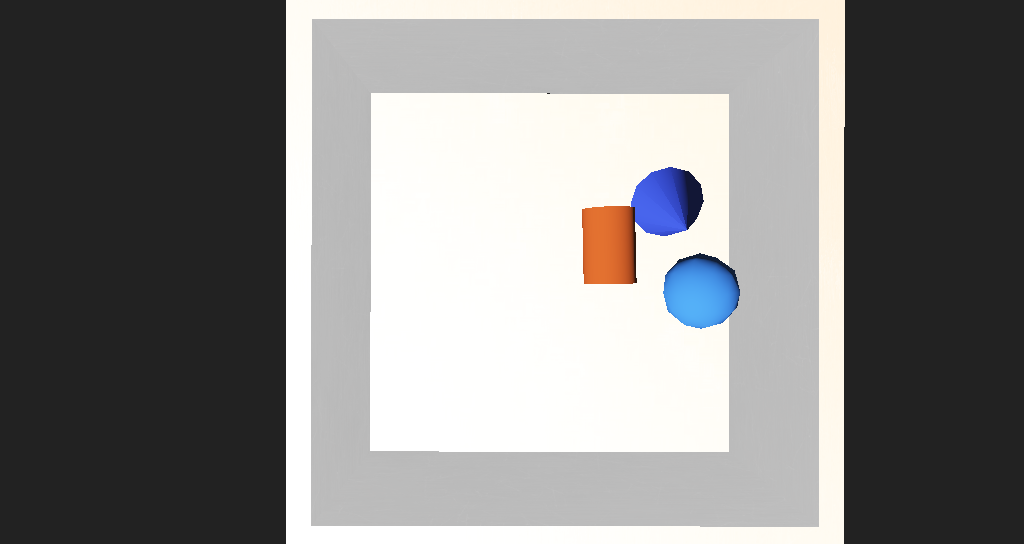cone: (536, 229, 583, 277)
cylinder: (576, 203, 650, 265)
sphere: (603, 260, 664, 303)
